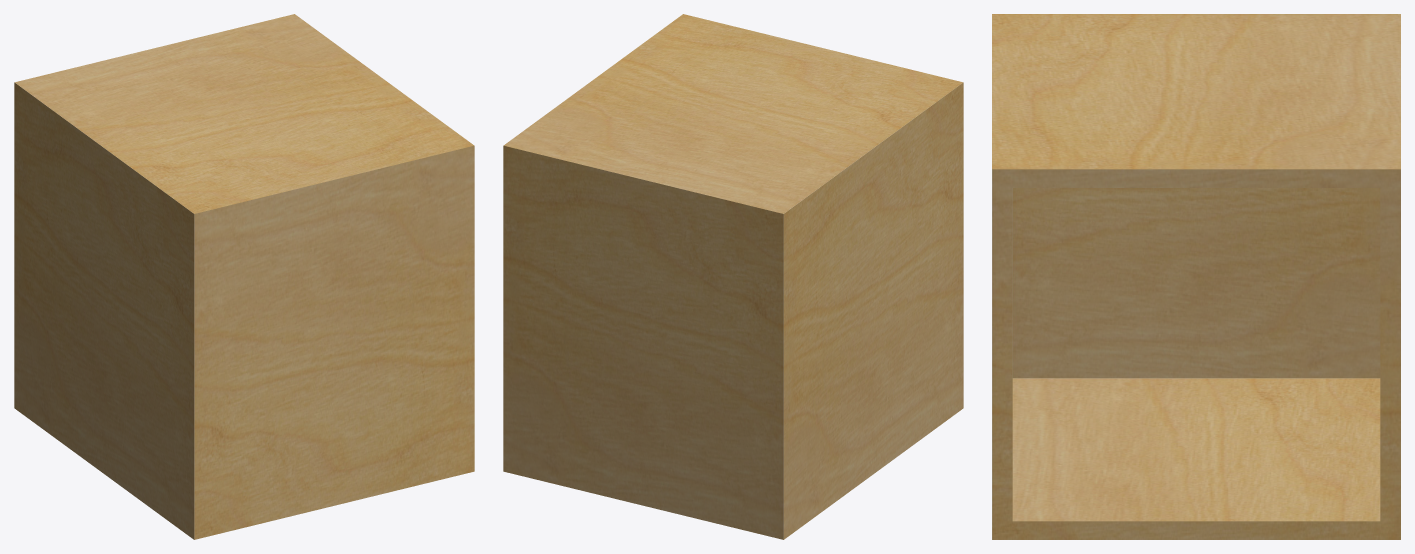
The model's file is estante_cubico.glb.
The picture shows the model from 3 angles, left to right: view 1: azimuth 30°, elevation 25°; view 2: azimuth 150°, elevation 25°; view 3: azimuth 270°, elevation 25°; orthographic projection. The views are drawn at different scales.
Visible parts, largest first — view 1: estante_cubico; view 2: estante_cubico; view 3: estante_cubico.
Part boxes in pixels (left/top/right/bottom): estante_cubico: left=14, top=14, right=474, bottom=539; estante_cubico: left=503, top=14, right=963, bottom=539; estante_cubico: left=992, top=14, right=1400, bottom=539.
Bounding box in the file's own units: 45 × 50 × 50.
Materials: 1 (1 with a texture image).
